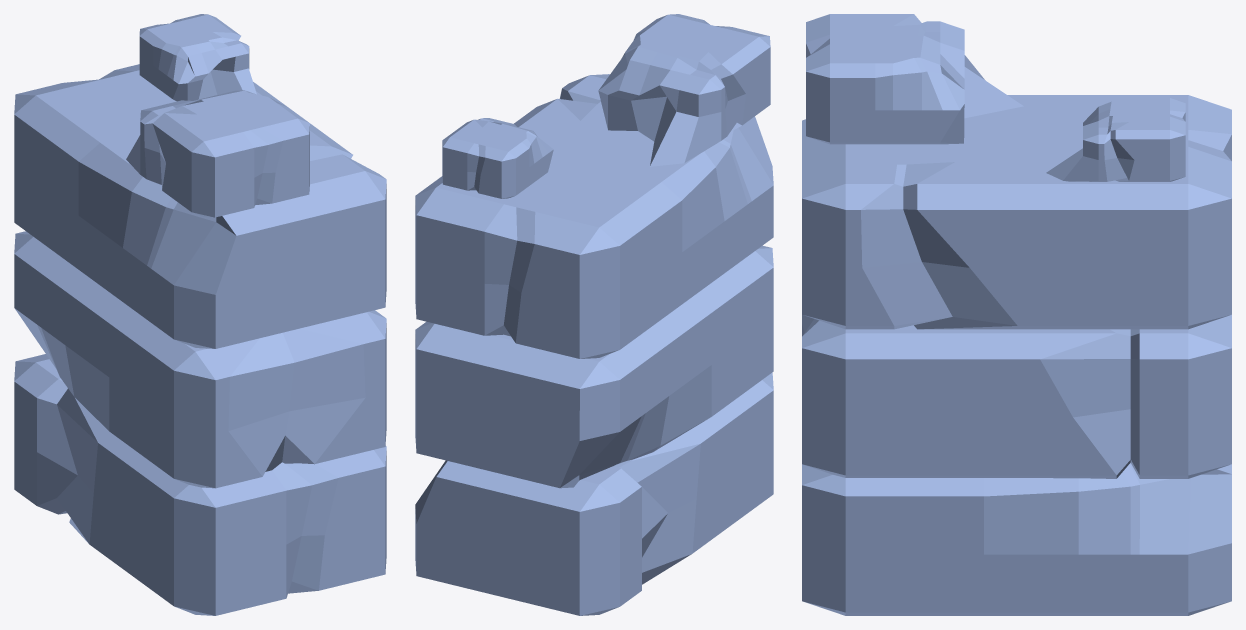
Rendered from Vampire_Assets_ColumnaSmall.fbx.
The picture shows the model from 3 angles, left to right: view 1: azimuth 30°, elevation 25°; view 2: azimuth 150°, elevation 25°; view 3: azimuth 270°, elevation 25°; orthographic projection. The views are drawn at different scales.
Visible parts, largest first — view 1: Cube.011; view 2: Cube.011; view 3: Cube.011.
Part boxes in pixels (bbox=[...]): Cube.011: bbox=[14, 14, 386, 615]; Cube.011: bbox=[415, 14, 773, 615]; Cube.011: bbox=[802, 14, 1231, 615].
Bounding box in the file's own units: 216 × 463 × 351.
